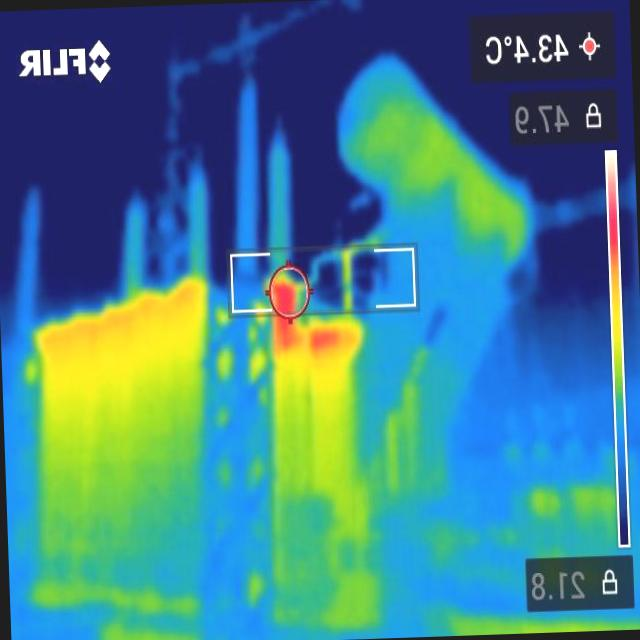loose_joint_red: (273, 272, 301, 310)
point_overload_yellow: (341, 247, 353, 311)
